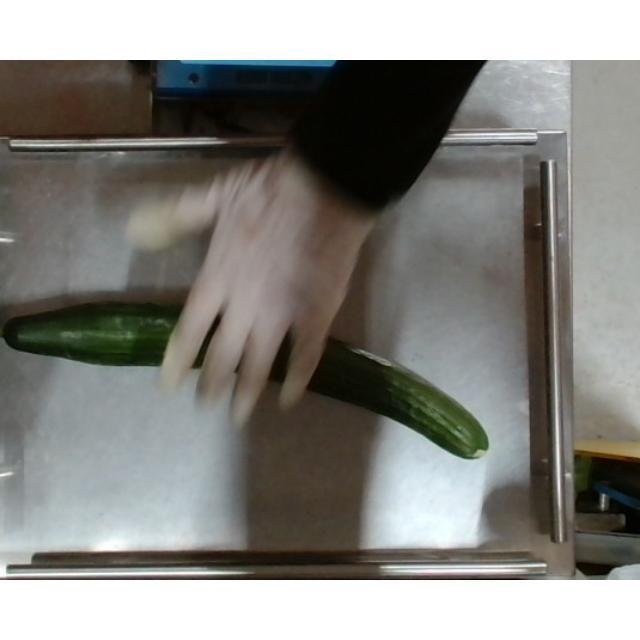cucumber: (0, 306, 486, 459)
